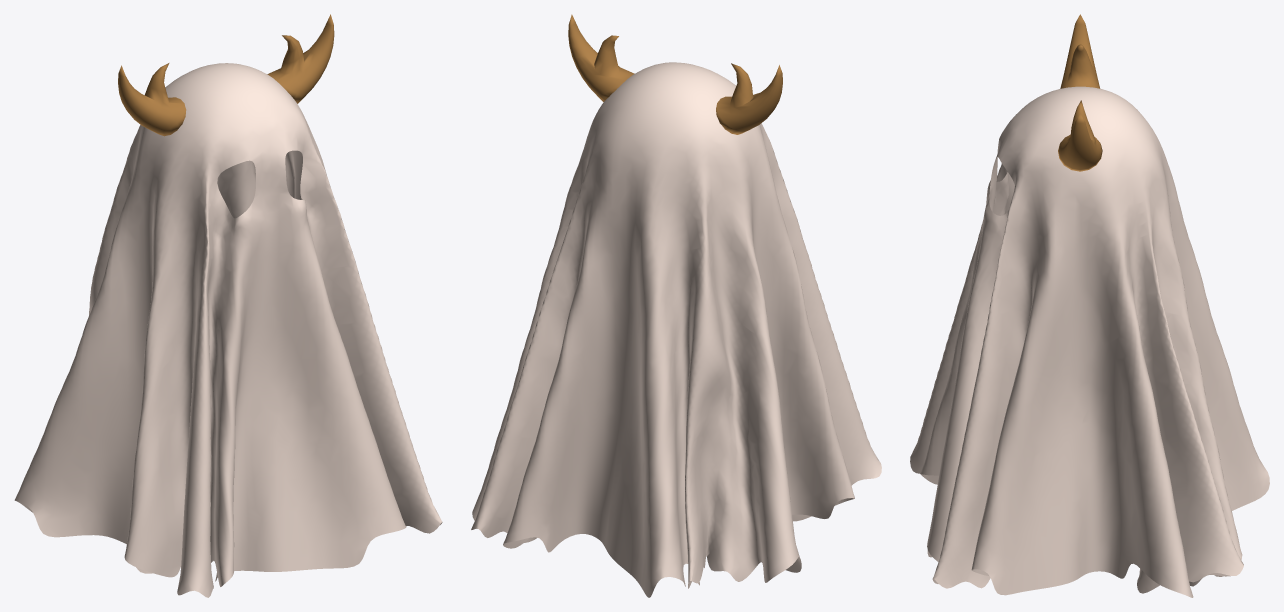
The model's file is GhostDeer.fbx.
3 renders of one model, left to right at view 1: azimuth 30°, elevation 25°; view 2: azimuth 150°, elevation 25°; view 3: azimuth 270°, elevation 25°, orthographic. The views are drawn at different scales.
Parts seen in each view (by area): view 1: Plane.002; view 2: Plane.002; view 3: Plane.002.
Part boxes in pixels (box(x1,y1,x2,y2)): Plane.002: box(14, 14, 442, 597); Plane.002: box(471, 14, 881, 597); Plane.002: box(910, 14, 1269, 597).
Size of the model in its own units: 99.43 by 149 by 101.
